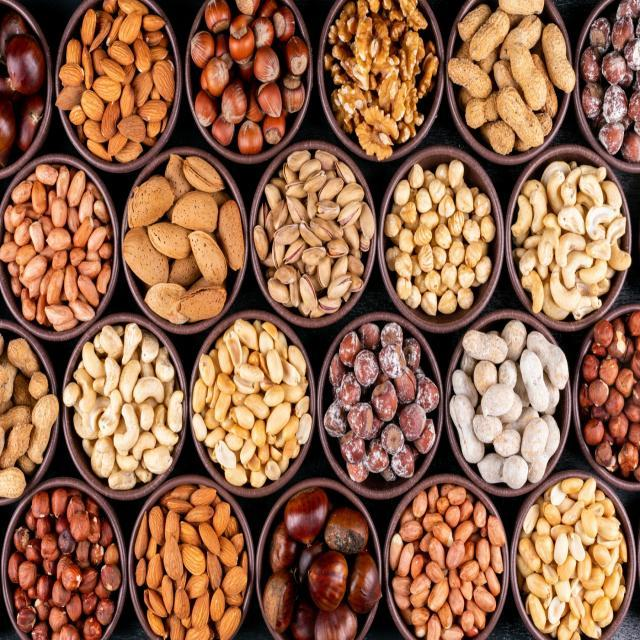Frutta secca: (445, 326, 569, 490), (514, 474, 632, 640), (190, 317, 312, 477), (249, 157, 373, 313), (66, 320, 185, 476), (381, 157, 497, 317), (126, 486, 252, 632), (122, 163, 241, 317), (188, 2, 310, 152), (450, 5, 573, 153), (261, 487, 381, 635), (514, 155, 622, 319), (324, 326, 436, 484), (321, 5, 442, 150), (389, 490, 508, 635), (58, 12, 174, 160), (4, 169, 110, 326), (9, 493, 123, 632)
